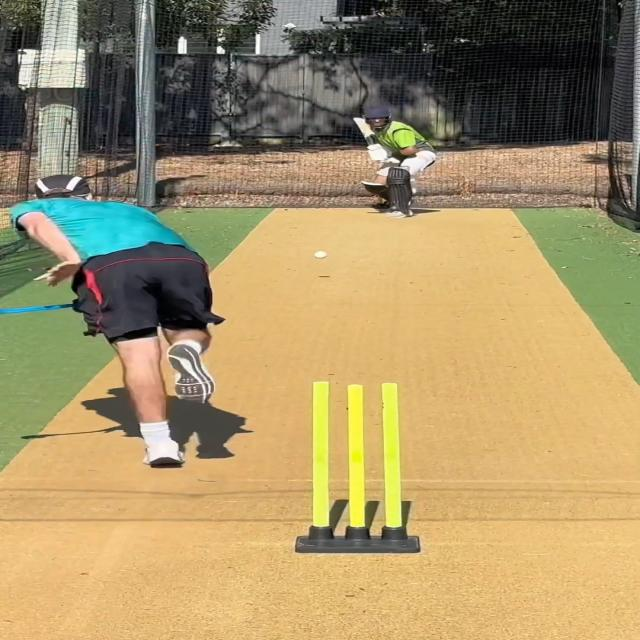ball: (312, 250, 330, 260)
stump: (296, 380, 424, 555)
